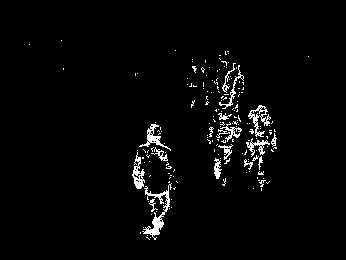person: (131, 121, 181, 239), (241, 104, 280, 191), (207, 94, 242, 181)
